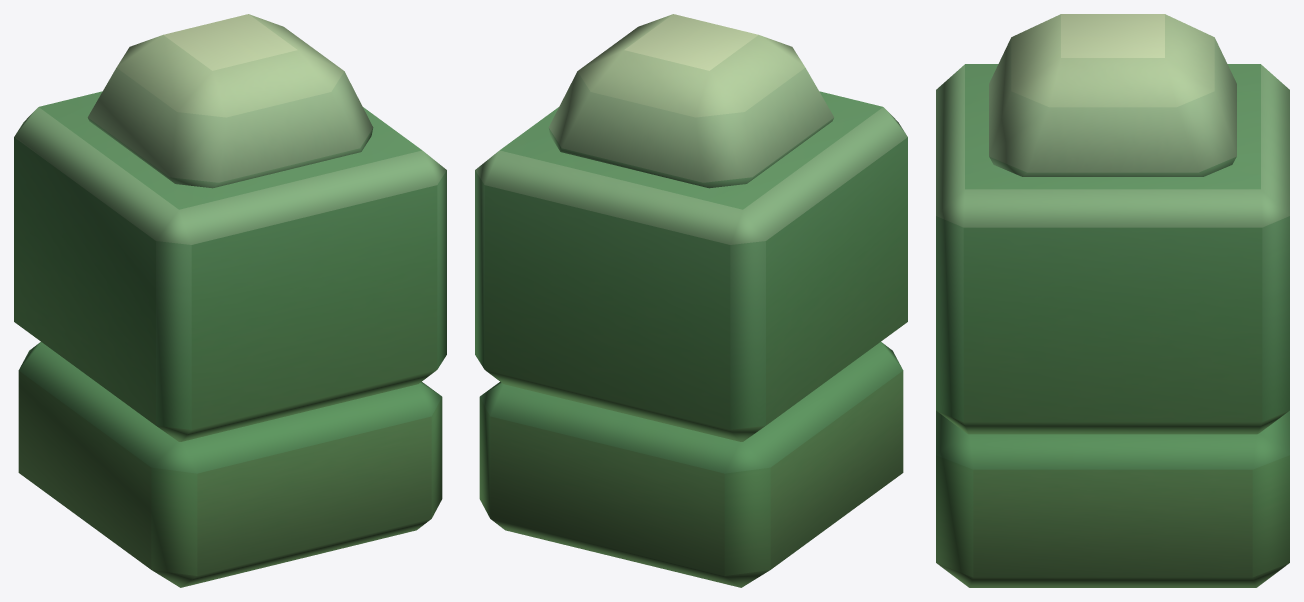
Rendered from railing_hub.fbx.
3 renders of one model, left to right at view 1: azimuth 30°, elevation 25°; view 2: azimuth 150°, elevation 25°; view 3: azimuth 270°, elevation 25°, orthographic. The views are drawn at different scales.
Parts seen in each view (by area): view 1: railing_hub; view 2: railing_hub; view 3: railing_hub.
Boxes of the visible parts, x1=… form: railing_hub: x1=14, y1=14, x2=446, y2=587; railing_hub: x1=475, y1=14, x2=907, y2=587; railing_hub: x1=936, y1=14, x2=1289, y2=587.
Bounding box in the file's own units: 105 × 161 × 105.
